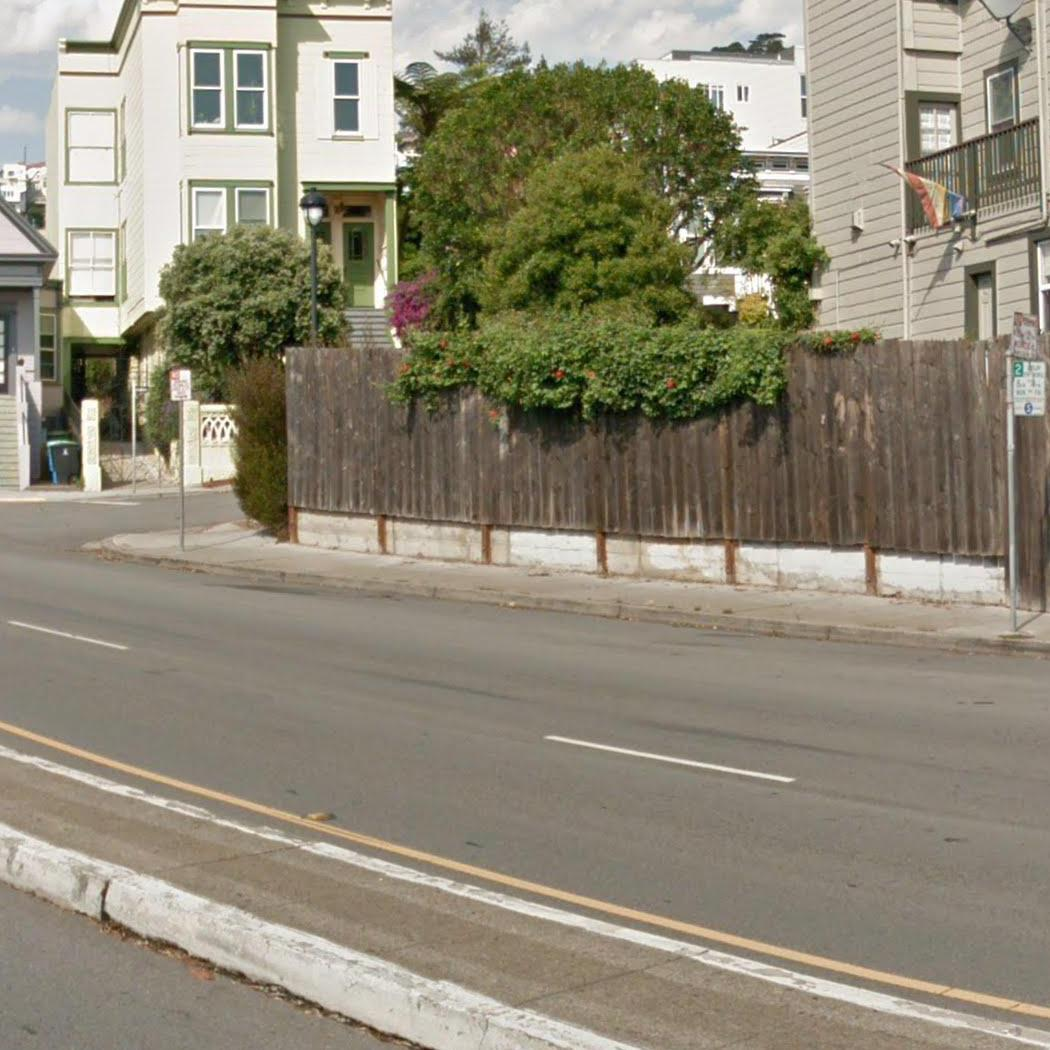2 Hour Parking: (1010, 360, 1048, 416)
No Parking: (1009, 310, 1040, 360), (169, 368, 193, 402)
